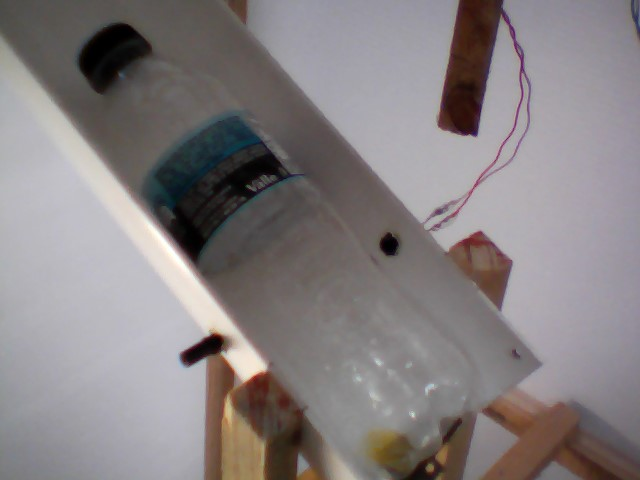plastico: (73, 8, 525, 480)
